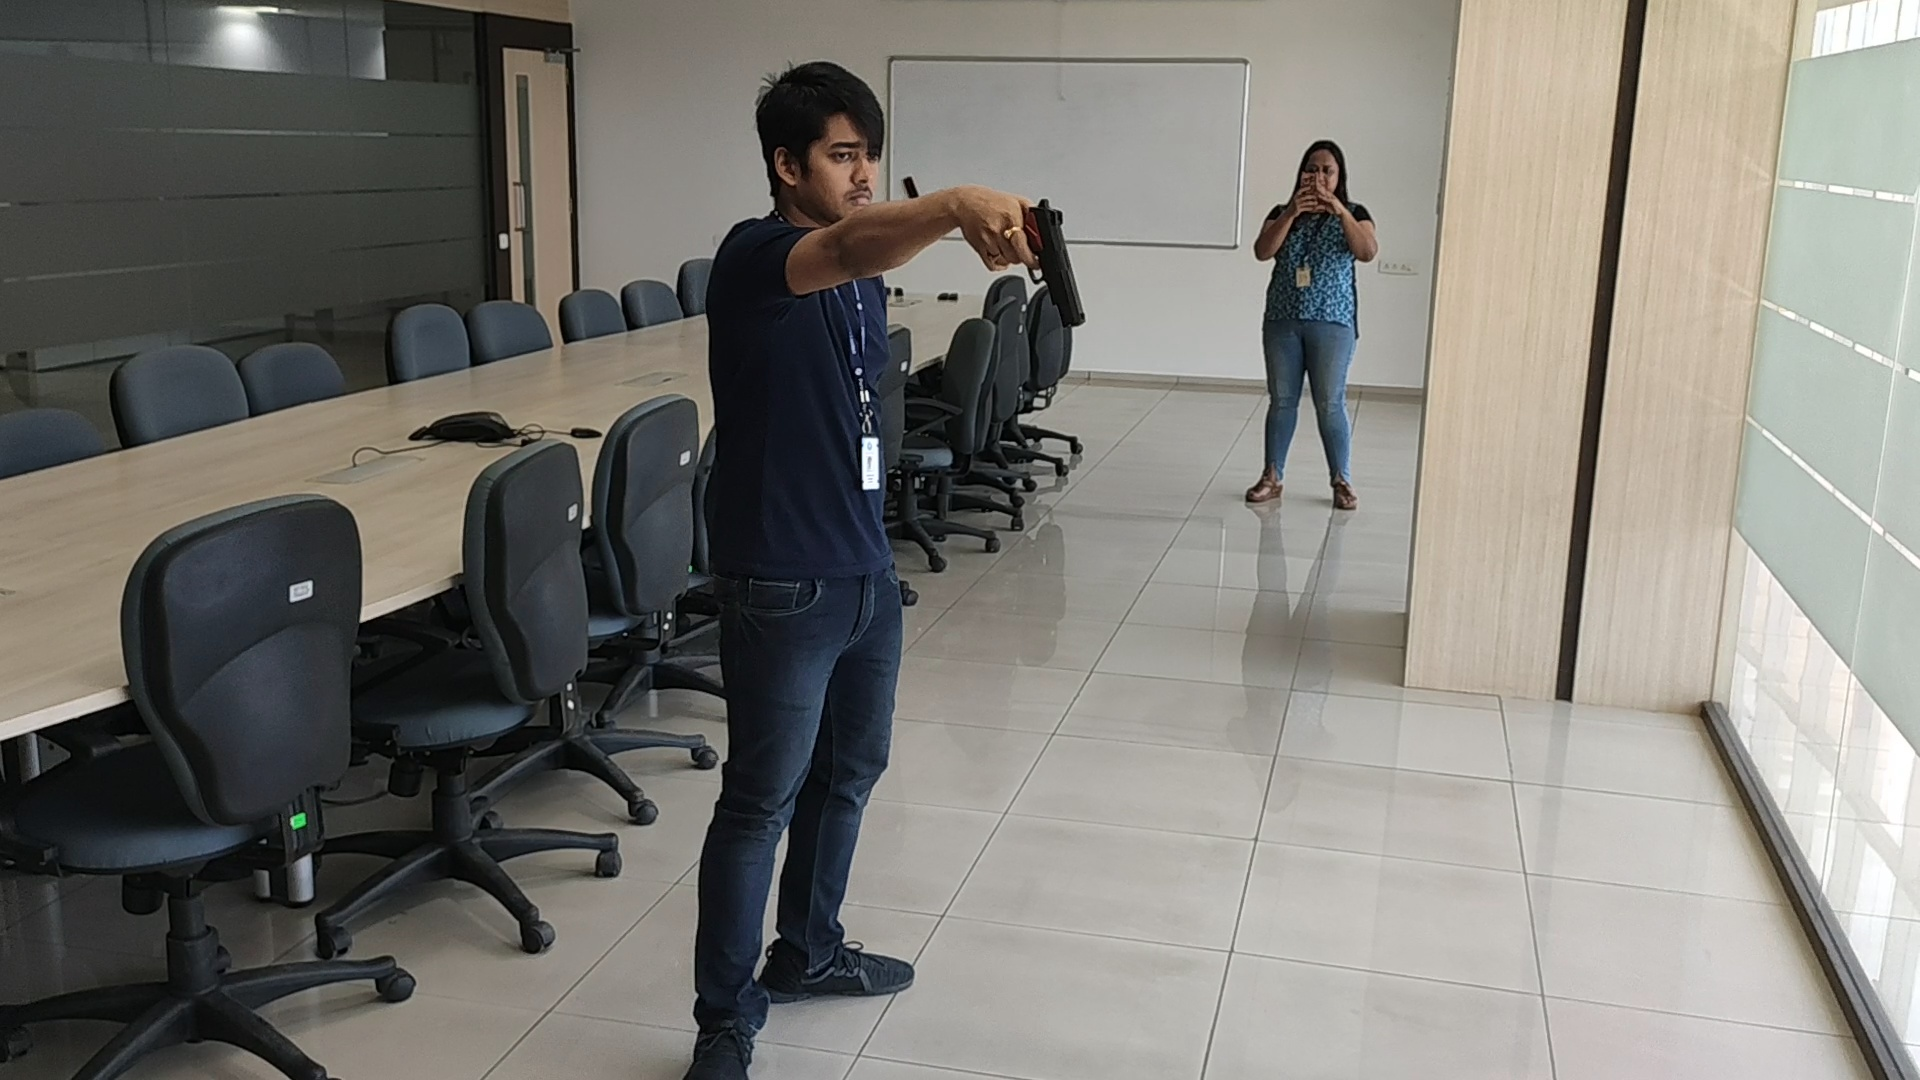gun: (1017, 196, 1091, 332)
